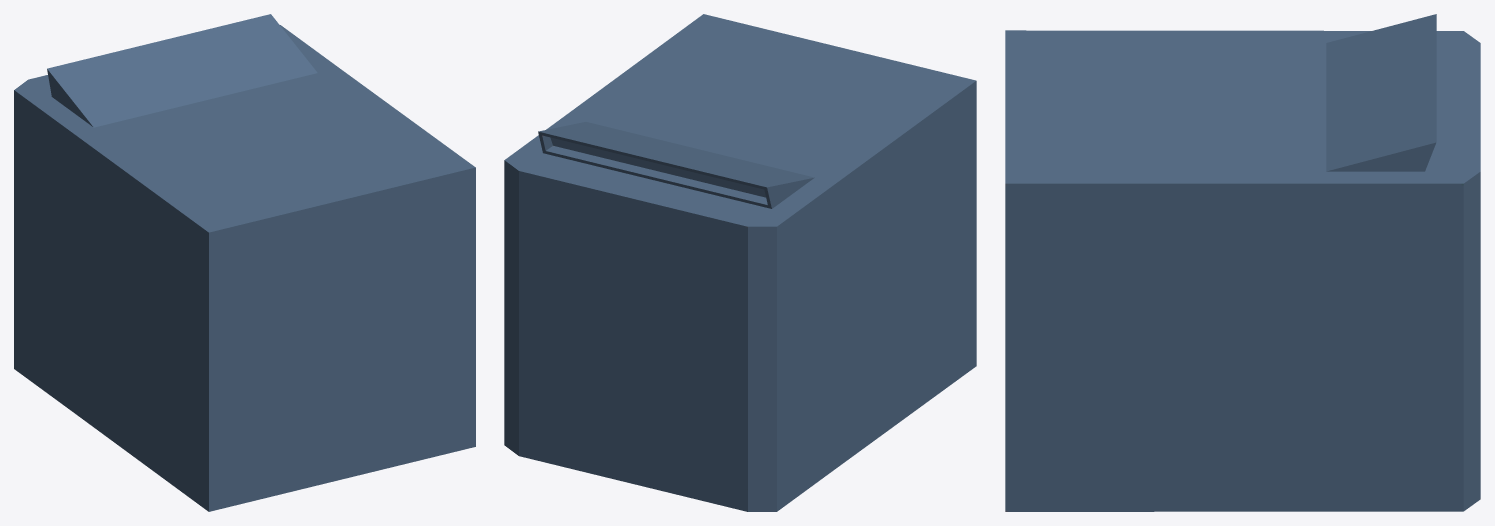
Rendered from mailbox.obj.
3 renders of one model, left to right at view 1: azimuth 30°, elevation 25°; view 2: azimuth 150°, elevation 25°; view 3: azimuth 270°, elevation 25°, orthographic. The views are drawn at different scales.
Visible parts, largest first — view 1: mailbox_Plane.063; view 2: mailbox_Plane.063; view 3: mailbox_Plane.063.
Part boxes in pixels (x1,y1,x2,y2): mailbox_Plane.063: (14,14,475,511); mailbox_Plane.063: (504,14,976,511); mailbox_Plane.063: (1005,14,1480,511).
Size of the model in its own units: 1.14 by 1.24 by 1.5.
